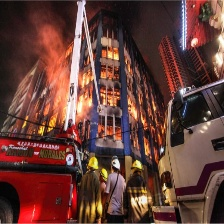fire: (22, 65, 163, 144)
smoke: (34, 19, 67, 107)
